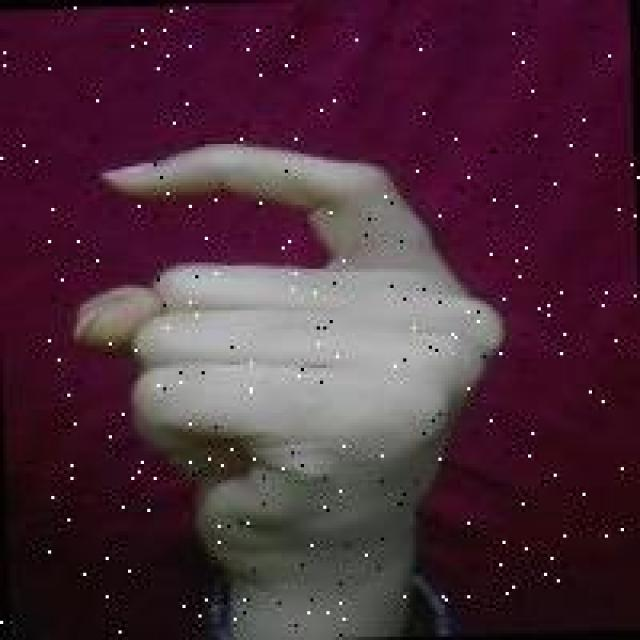X: (58, 123, 522, 594)
